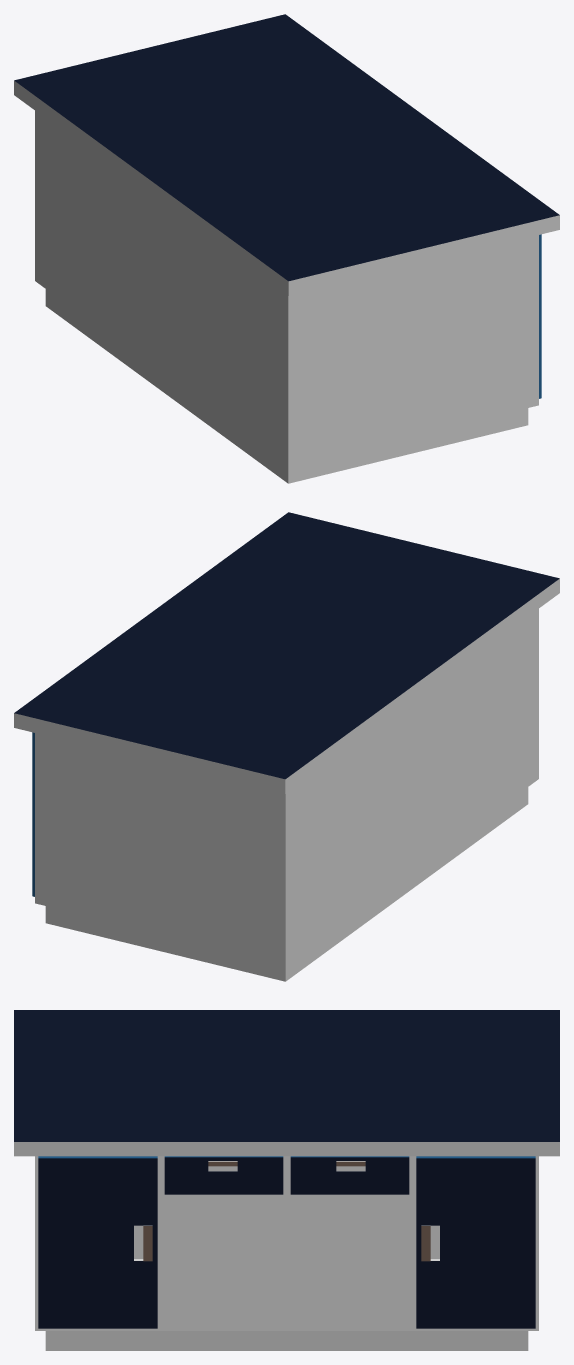
File: LabTableWithDrawers.fbx
3 views of the same model, one above another, from view 1: azimuth 30°, elevation 25°; view 2: azimuth 150°, elevation 25°; view 3: azimuth 270°, elevation 25° (orthographic).
Parts seen in each view (by area): view 1: Cube.005, Cube.010, Cube.004; view 2: Cube.005, Cube.010, Cube.004; view 3: Cube.010, Cube.009, Cube.012, Cube.005, Cube.008, Cube.004, Cube.013, Cube.014, Cube.006, Cube.015, Cube.011, Cube.007.
Boxes of the visible parts, bbox=[...] form: Cube.005: bbox=[35, 111, 538, 483]; Cube.010: bbox=[14, 14, 559, 281]; Cube.004: bbox=[14, 80, 559, 295]; Cube.005: bbox=[35, 609, 538, 981]; Cube.010: bbox=[14, 512, 559, 779]; Cube.004: bbox=[14, 578, 559, 793]; Cube.010: bbox=[14, 1010, 559, 1141]; Cube.009: bbox=[38, 1158, 535, 1328]; Cube.012: bbox=[161, 1156, 412, 1330]; Cube.005: bbox=[45, 1331, 528, 1350]; Cube.008: bbox=[164, 1157, 409, 1194]; Cube.004: bbox=[14, 1142, 559, 1156]; Cube.013: bbox=[35, 1156, 538, 1330]; Cube.014: bbox=[134, 1225, 439, 1260]; Cube.006: bbox=[38, 1156, 535, 1158]; Cube.015: bbox=[143, 1226, 430, 1261]; Cube.011: bbox=[287, 1156, 412, 1196]; Cube.007: bbox=[164, 1156, 409, 1157].
Size of the model in its own units: 556 by 426 by 974.
